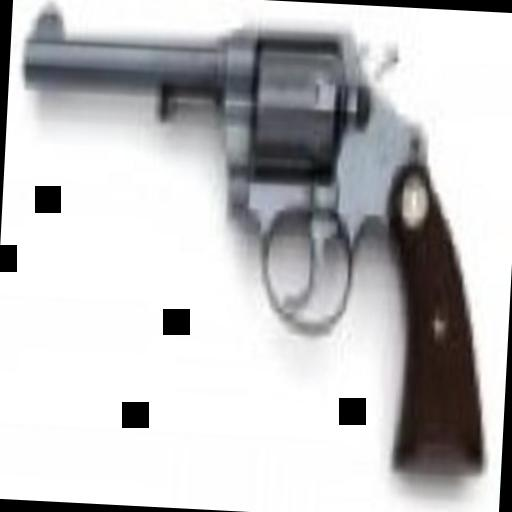Handgun: (4, 0, 510, 480)
